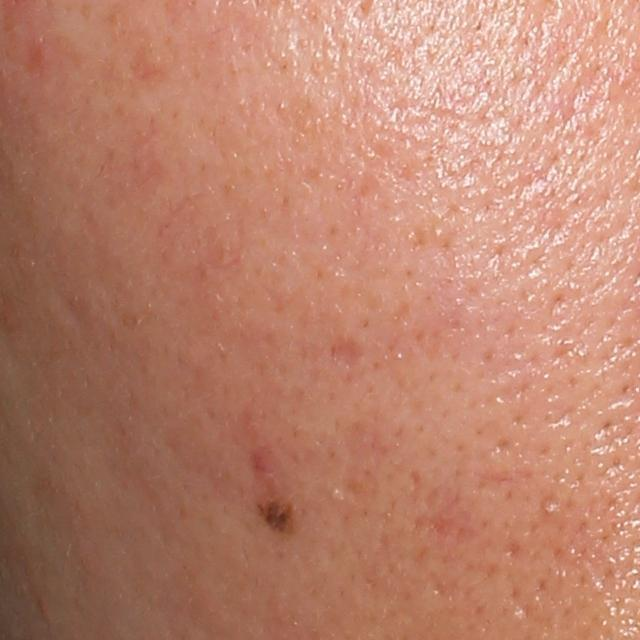atrophic_scar: (331, 335, 366, 369)
nevus: (257, 494, 296, 535)
